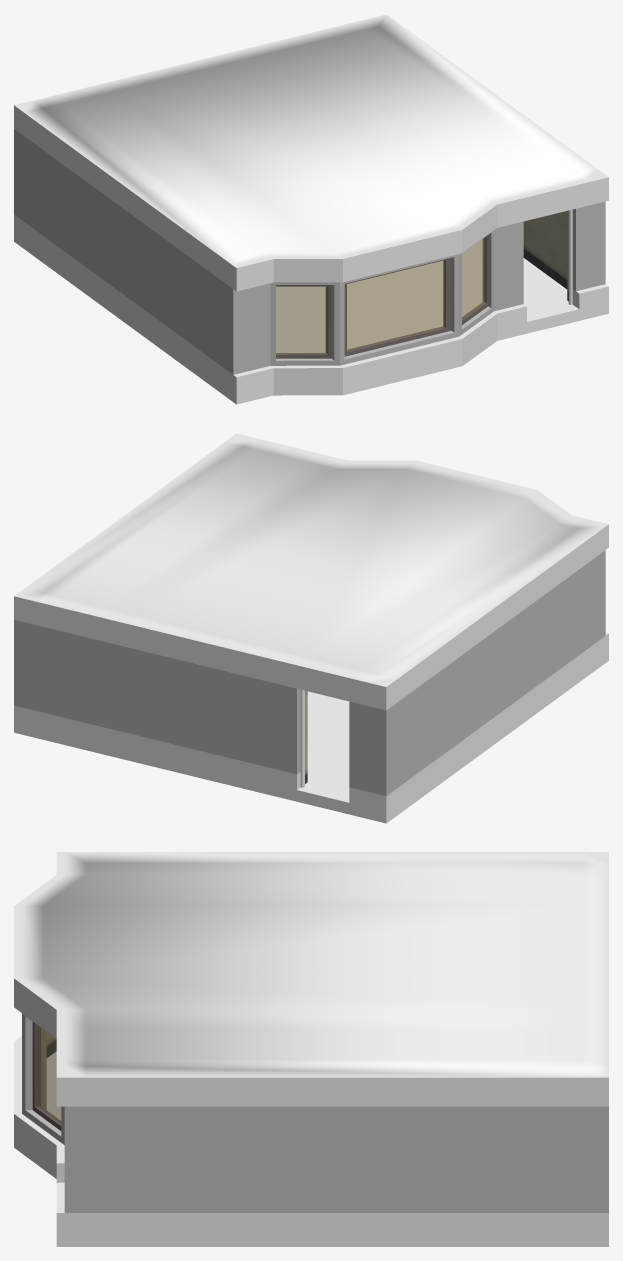
The model's file is SadCentral.fbx.
3 views of the same model, one above another, from view 1: azimuth 30°, elevation 25°; view 2: azimuth 150°, elevation 25°; view 3: azimuth 270°, elevation 25° (orthographic). The views are drawn at different scales.
Parts seen in each view (by area): view 1: SadCentral; view 2: SadCentral; view 3: SadCentral.
Boxes of the visible parts, x1,y1,x2,y2 form: SadCentral: (14, 14, 608, 404); SadCentral: (14, 433, 608, 823); SadCentral: (14, 852, 608, 1246).
Bounding box in the file's own units: 1000 × 350 × 1115.
